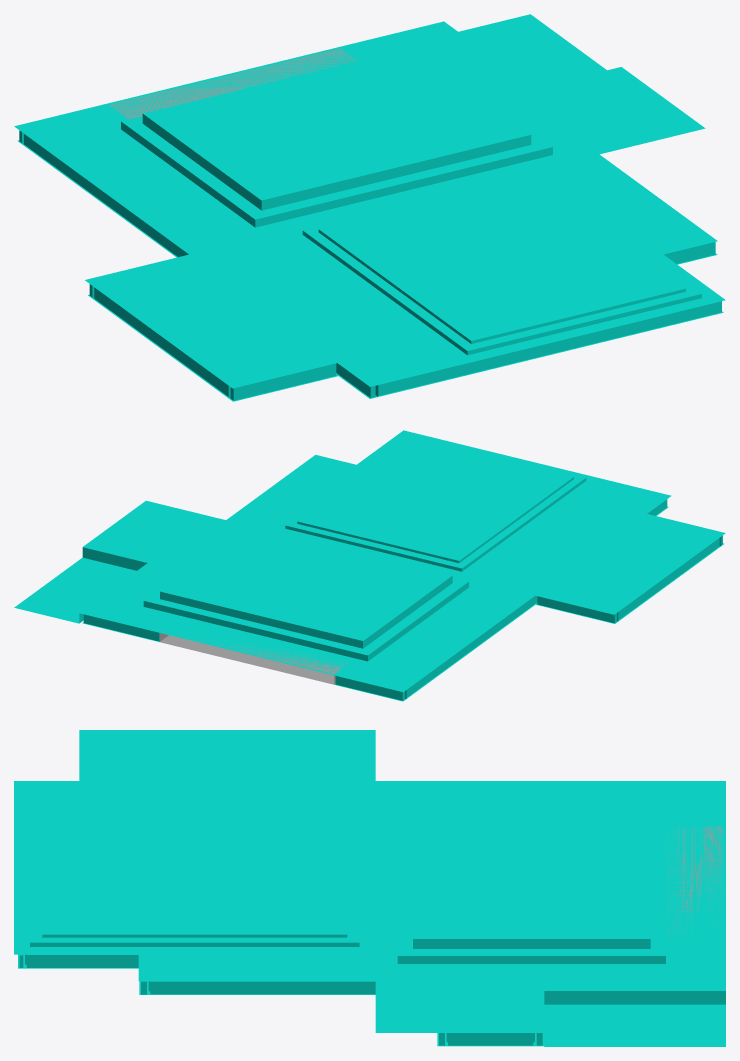
File: Rest_DA_Set06-7_v01.fbx
The picture shows the model from 3 angles, top to bottom: view 1: azimuth 30°, elevation 25°; view 2: azimuth 150°, elevation 25°; view 3: azimuth 270°, elevation 25°; orthographic projection. The views are drawn at different scales.
Parts seen in each view (by area): view 1: Rest_DA_Set07_Ceiling, Rest_DA_Set06_CeilingLift_07, Rest_DA_Set07_CeilingDivider_01, Rest_DA_Set06_CeilingLift_02, Rest_DA_Set06_CeilingLift_05, Rest_DA_Set06_CeilingLift_04, Rest_DA_Set06_CeilingLift_09; view 2: Rest_DA_Set07_Ceiling, Rest_DA_Set07_CeilingDivider_01, Rest_DA_Set06_CeilingLift_02, Rest_DA_Set06_CeilingLift_05, Rest_DA_Set06_CeilingLift_03, Rest_DA_Set06_CeilingLift_15, Rest_DA_Set06_CeilingLift_01; view 3: Rest_DA_Set07_Ceiling, Rest_DA_Set06_CeilingLift_10, Rest_DA_Set07_CeilingDivider_01, Rest_DA_Set06_CeilingLift_08, Rest_DA_Set06_CeilingLift_12.
Part boxes in pixels (left/top/right/bottom): Rest_DA_Set07_Ceiling: left=14, top=14, right=725, bottom=388; Rest_DA_Set06_CeilingLift_07: left=378, top=301, right=723, bottom=396; Rest_DA_Set07_CeilingDivider_01: left=110, top=48, right=356, bottom=119; Rest_DA_Set06_CeilingLift_02: left=22, top=134, right=188, bottom=257; Rest_DA_Set06_CeilingLift_05: left=92, top=287, right=228, bottom=397; Rest_DA_Set06_CeilingLift_04: left=228, top=363, right=337, bottom=401; Rest_DA_Set06_CeilingLift_09: left=664, top=242, right=717, bottom=264; Rest_DA_Set07_Ceiling: left=14, top=430, right=725, bottom=692; Rest_DA_Set07_CeilingDivider_01: left=159, top=630, right=349, bottom=684; Rest_DA_Set06_CeilingLift_02: left=406, top=595, right=537, bottom=698; Rest_DA_Set06_CeilingLift_05: left=618, top=538, right=720, bottom=621; Rest_DA_Set06_CeilingLift_03: left=536, top=596, right=618, bottom=623; Rest_DA_Set06_CeilingLift_15: left=82, top=614, right=159, bottom=641; Rest_DA_Set06_CeilingLift_01: left=334, top=676, right=406, bottom=701; Rest_DA_Set07_Ceiling: left=14, top=730, right=725, bottom=1046; Rest_DA_Set06_CeilingLift_10: left=148, top=981, right=375, bottom=994; Rest_DA_Set07_CeilingDivider_01: left=666, top=826, right=722, bottom=938; Rest_DA_Set06_CeilingLift_08: left=25, top=954, right=138, bottom=968; Rest_DA_Set06_CeilingLift_12: left=446, top=1033, right=534, bottom=1046.
Bounding box in the file's own units: 960 × 47.35 × 954.
